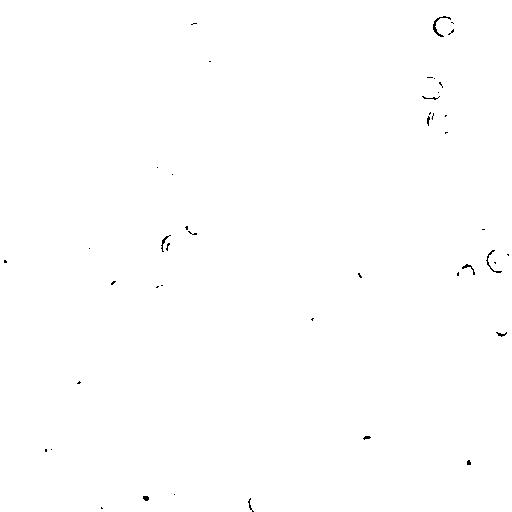micro-algae: (334, 295, 437, 393), (385, 53, 444, 107), (116, 427, 173, 479), (166, 407, 216, 457), (79, 255, 129, 304), (95, 1, 142, 42), (450, 443, 488, 481), (125, 476, 163, 511), (11, 26, 45, 61), (426, 104, 459, 137), (388, 282, 417, 311), (275, 430, 305, 457), (142, 241, 172, 267), (302, 309, 333, 334), (161, 233, 189, 260), (485, 247, 512, 275), (104, 67, 130, 95), (255, 456, 283, 482), (402, 3, 428, 31), (417, 74, 445, 100), (154, 153, 179, 182), (76, 464, 102, 490), (139, 405, 165, 431), (429, 260, 455, 285), (35, 427, 58, 455), (432, 14, 457, 39), (454, 263, 477, 289), (472, 225, 499, 247), (201, 45, 226, 68), (16, 149, 37, 175), (340, 266, 362, 289), (67, 365, 89, 387), (186, 21, 207, 41), (55, 128, 75, 149), (0, 246, 15, 274), (246, 491, 267, 511), (151, 281, 171, 301), (182, 219, 204, 237), (109, 0, 137, 14), (490, 319, 511, 337), (164, 482, 183, 499), (85, 497, 108, 511), (74, 241, 93, 257), (343, 396, 359, 415), (356, 237, 371, 256), (370, 250, 385, 267), (361, 433, 376, 449), (108, 279, 124, 292)
